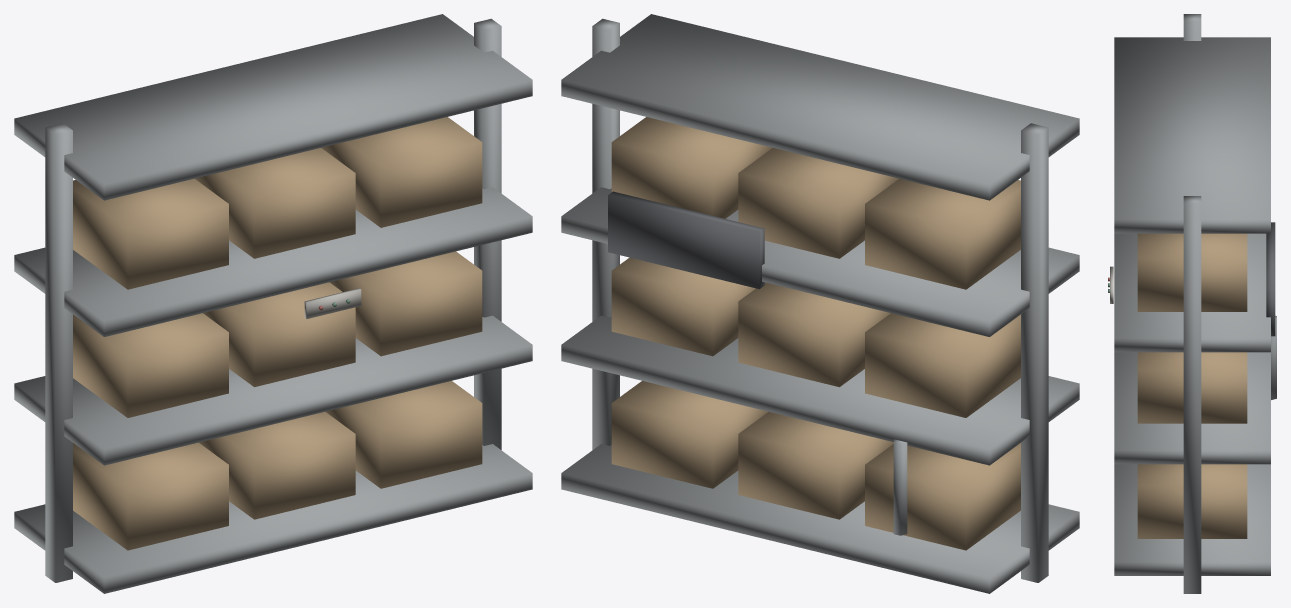
File: print_drying_rack__service.glb
3 views of the same model, side by side, from view 1: azimuth 30°, elevation 25°; view 2: azimuth 150°, elevation 25°; view 3: azimuth 270°, elevation 25° (orthographic). The views are drawn at different scales.
Parts seen in each view (by area): view 1: world; view 2: world; view 3: world.
Part boxes in pixels (x1,y1,x2,y2): world: (14,14,532,593); world: (561,14,1079,593); world: (1108,14,1276,593).
Size of the model in its own units: 2.29 by 2.2 by 0.8613.
